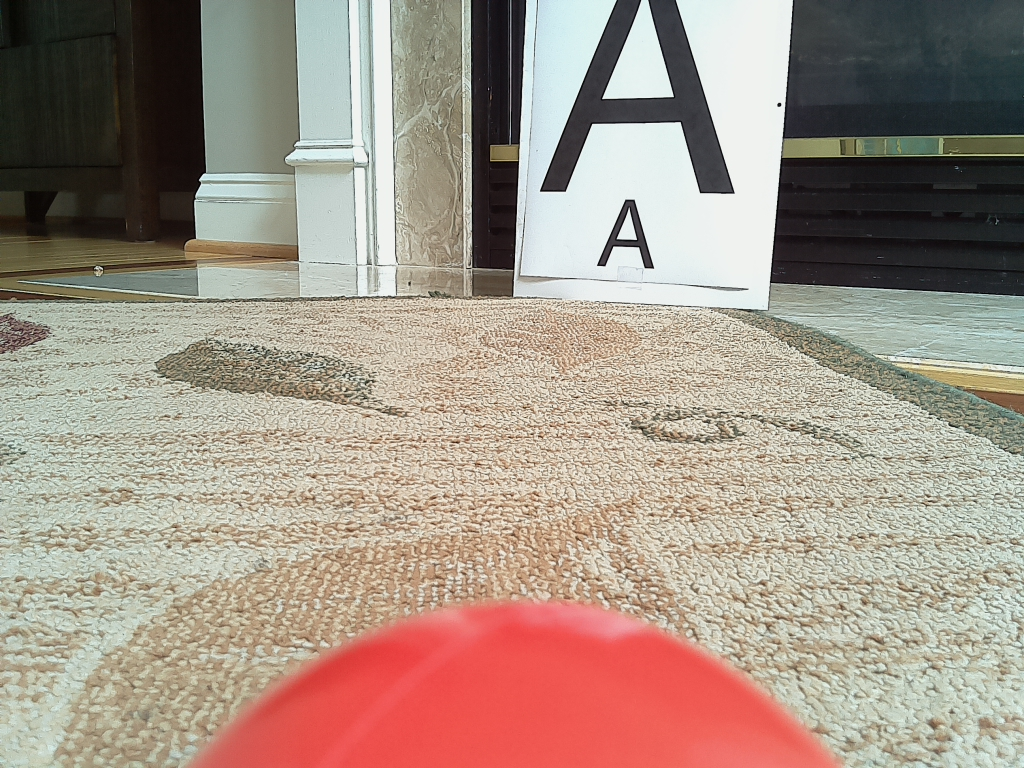letter: (540, 1, 734, 193)
